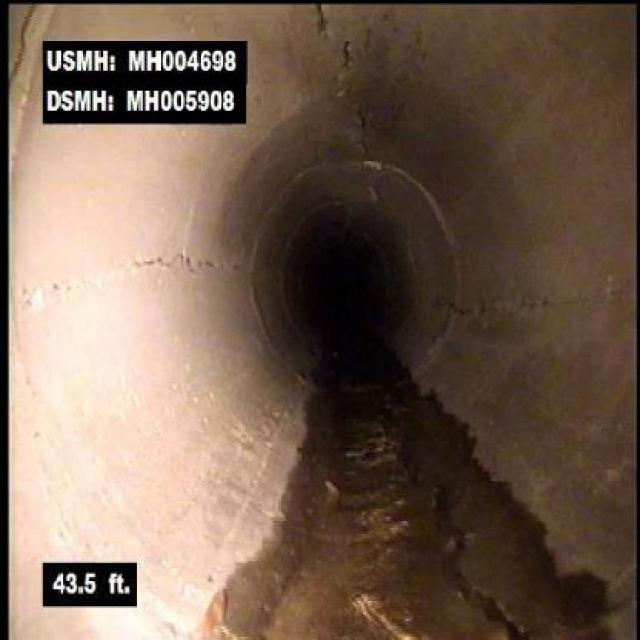Crack: (432, 480, 532, 638), (34, 245, 215, 297), (434, 277, 632, 323), (311, 8, 358, 112)
